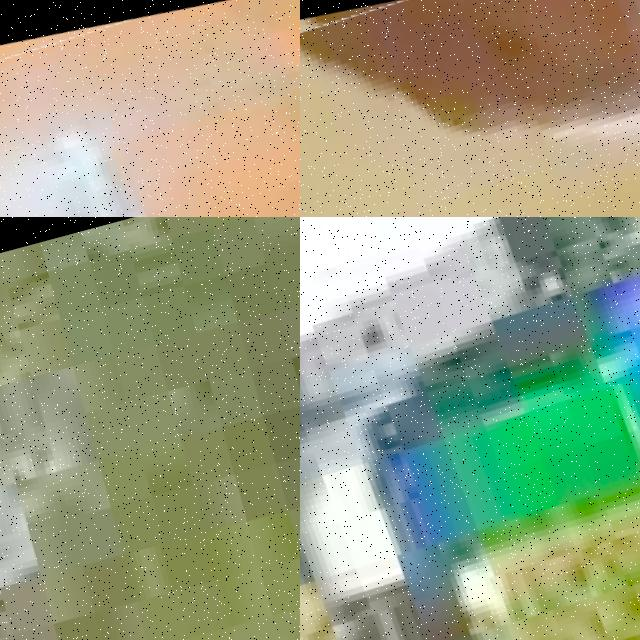0: (300, 217, 640, 640)
drone: (300, 0, 640, 217), (0, 0, 300, 217)
